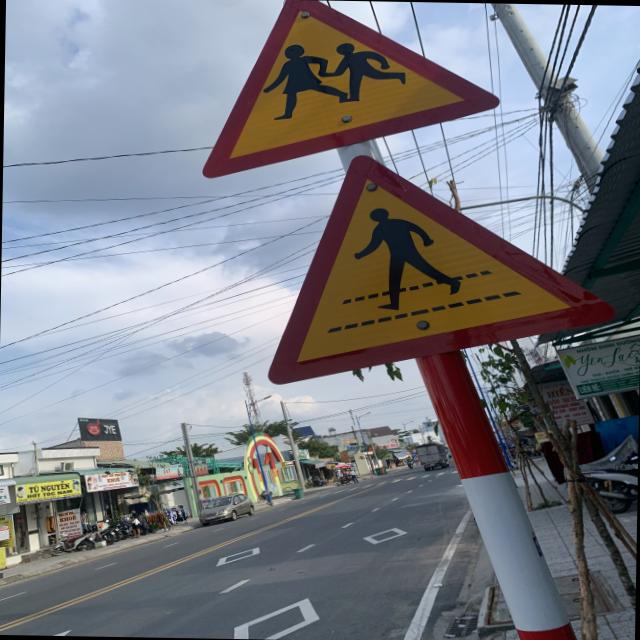Duong_Nguoi_Di_Bo_Sang_Ngang: (269, 154, 617, 394)
Vong_Xuyen: (199, 0, 502, 184)
